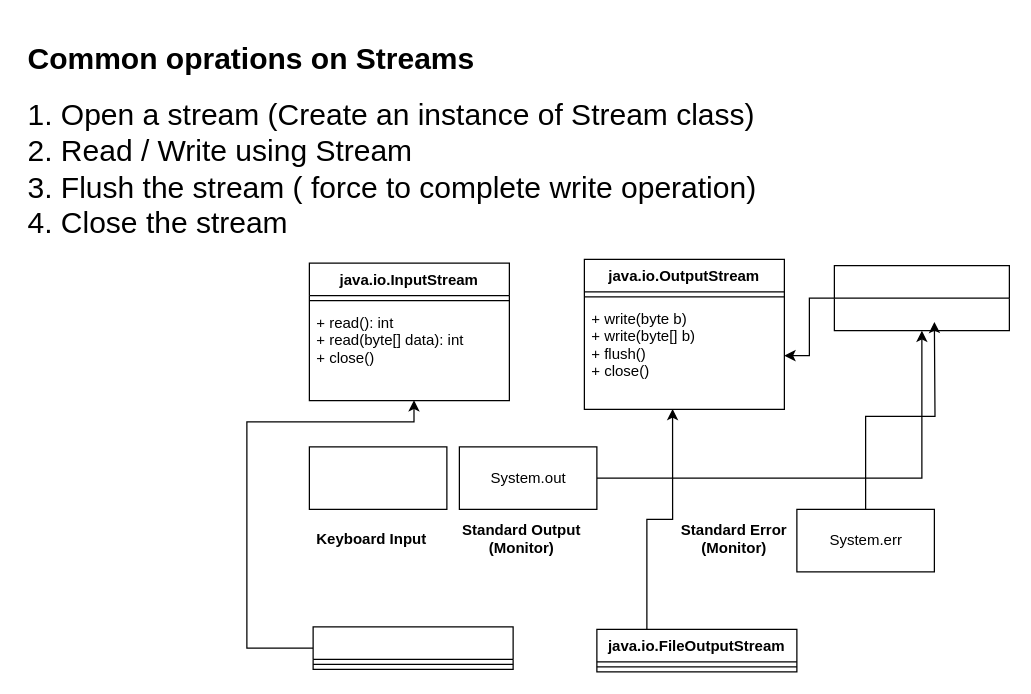
Image size: 1031x694. Some labels were removed from this diagram. The box of each missing label's shape, as (x1, y1, x2, y2) in pixels:
java.io.FileInputStream: (312, 626, 513, 669)
java.io.PrintStream: (833, 264, 1009, 331)
System.in: (308, 446, 447, 509)
